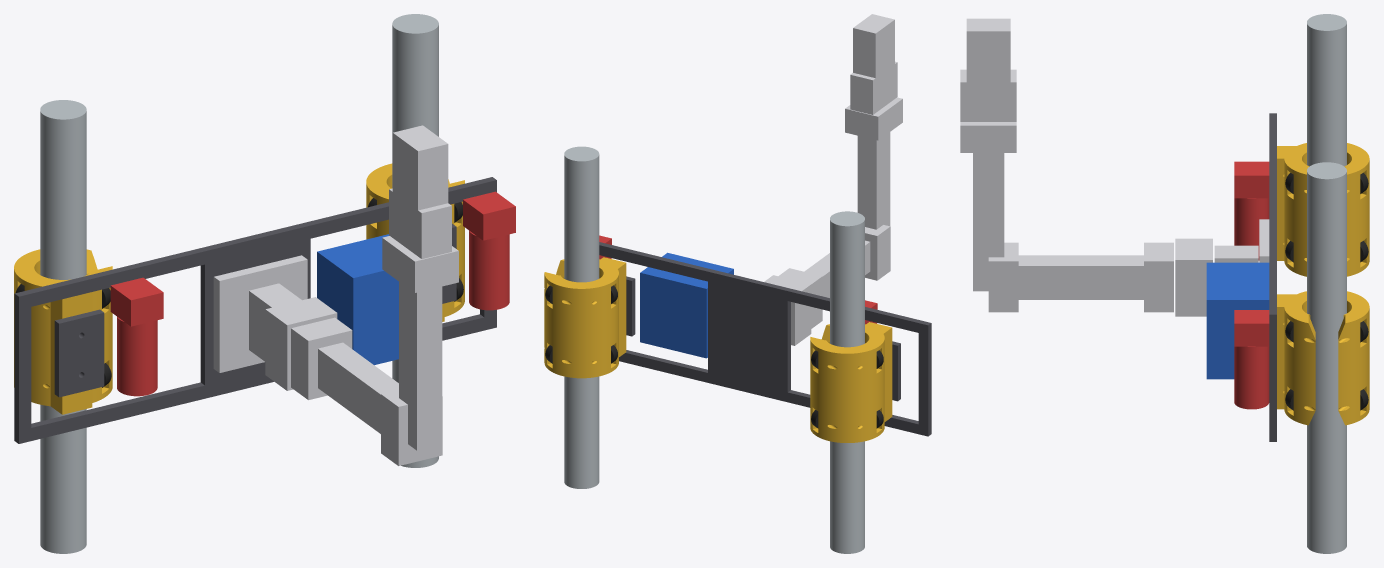
File: cart-assembly-v3.glb
The picture shows the model from 3 angles, left to right: view 1: azimuth 30°, elevation 25°; view 2: azimuth 150°, elevation 25°; view 3: azimuth 270°, elevation 25°; orthographic projection. The views are drawn at different scales.
Visible parts, largest first — view 1: so101_arm_envelope, base_plate, track_pipe_B, drive_motors, battery, hand_on_pipe_B_sleeve, track_pipe_C, hand_on_pipe_C_sleeve; view 2: base_plate, so101_arm_envelope, track_pipe_C, track_pipe_B, hand_on_pipe_C_sleeve, hand_on_pipe_B_sleeve, battery, hand_on_pipe_B_wheels; view 3: so101_arm_envelope, track_pipe_C, hand_on_pipe_C_sleeve, drive_motors, hand_on_pipe_B_sleeve, track_pipe_B, battery, base_plate, hand_on_pipe_B_wheels, hand_on_pipe_C_wheels.
Boxes of the visible parts, left/top/right/bottom form: so101_arm_envelope: left=213, top=125, right=458, bottom=465; base_plate: left=14, top=177, right=496, bottom=443; track_pipe_B: left=40, top=100, right=86, bottom=553; drive_motors: left=110, top=191, right=515, bottom=396; battery: left=317, top=234, right=398, bottom=365; hand_on_pipe_B_sleeve: left=14, top=249, right=112, bottom=414; track_pipe_C: left=392, top=14, right=438, bottom=467; hand_on_pipe_C_sleeve: left=366, top=163, right=464, bottom=321; base_plate: left=599, top=242, right=931, bottom=436; so101_arm_envelope: left=764, top=14, right=902, bottom=345; track_pipe_C: left=564, top=146, right=599, bottom=488; track_pipe_B: left=830, top=211, right=864, bottom=553; hand_on_pipe_C_sleeve: left=544, top=257, right=626, bottom=378; hand_on_pipe_B_sleeve: left=810, top=322, right=892, bottom=442; battery: left=640, top=252, right=733, bottom=358; hand_on_pipe_B_wheels: left=811, top=350, right=883, bottom=428; so101_arm_envelope: left=960, top=18, right=1269, bottom=316; track_pipe_C: left=1307, top=162, right=1346, bottom=553; hand_on_pipe_C_sleeve: left=1277, top=291, right=1369, bottom=425; drive_motors: left=1234, top=161, right=1269, bottom=409; hand_on_pipe_B_sleeve: left=1277, top=143, right=1369, bottom=276; track_pipe_B: left=1307, top=14, right=1346, bottom=166; battery: left=1206, top=262, right=1269, bottom=379; base_plate: left=1269, top=113, right=1276, bottom=441; hand_on_pipe_B_wheels: left=1285, top=172, right=1368, bottom=262; hand_on_pipe_C_wheels: left=1285, top=321, right=1368, bottom=410.
Bounding box in the file's own units: 380 × 388 × 326.
